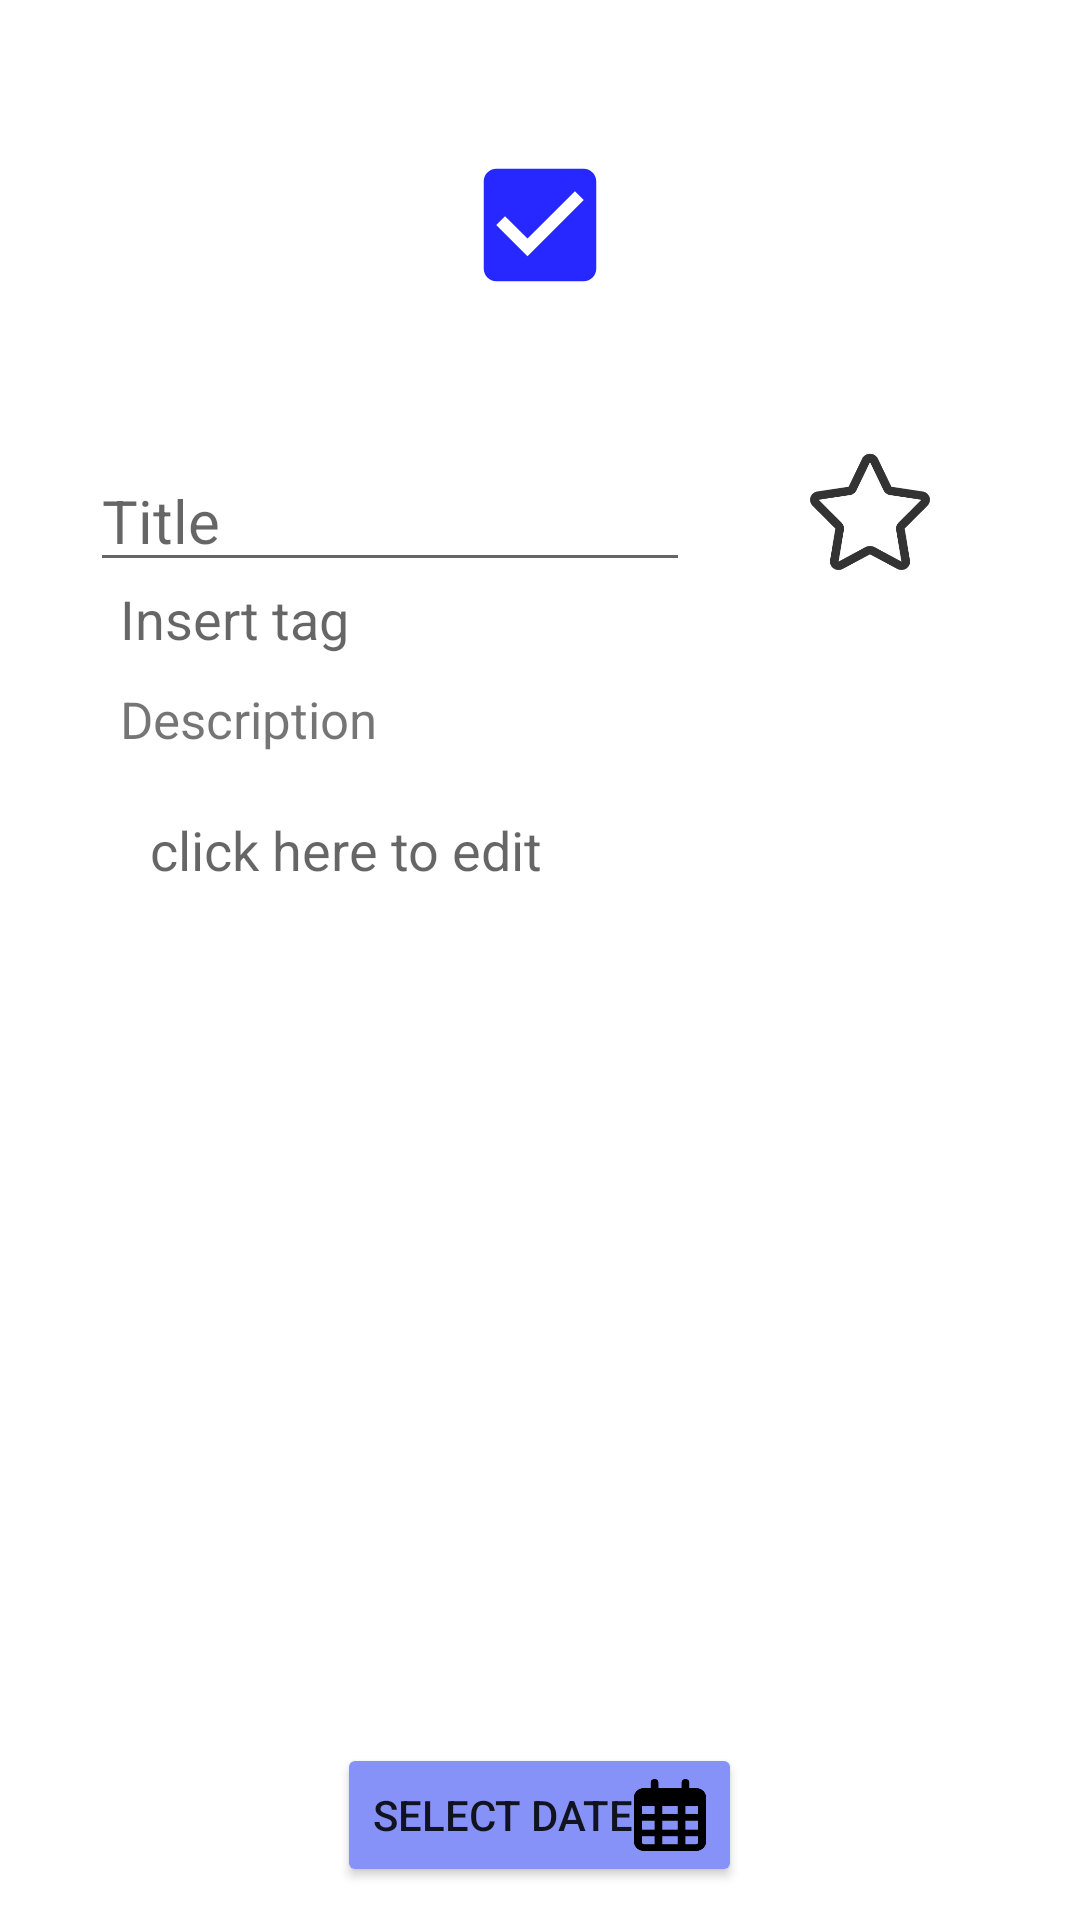

Point at icon controls on the screen. Image size 1080x1920, points as point (x, y).
star empty: point (870, 512)
